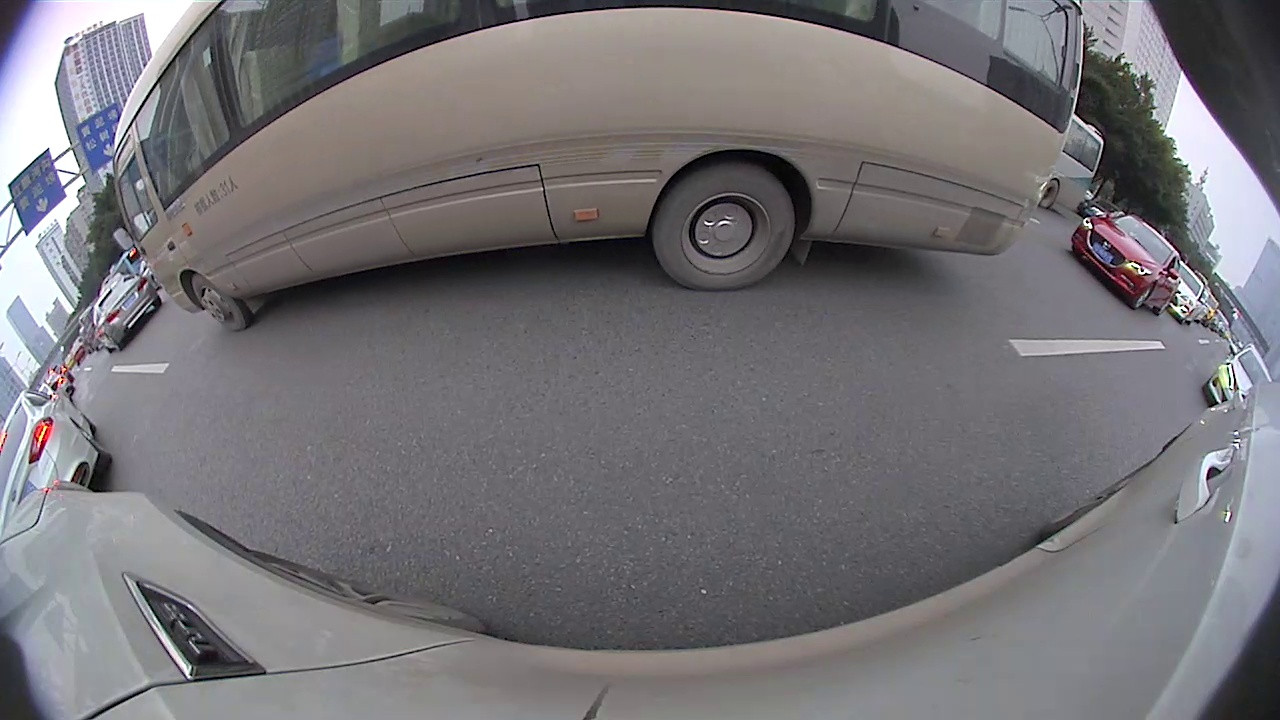bus: (111, 2, 1085, 333), (1032, 116, 1105, 217)
car: (1, 388, 110, 530), (1070, 213, 1181, 314), (90, 276, 160, 352), (1207, 343, 1271, 410)
front: (194, 273, 248, 328), (1128, 283, 1156, 309)
rear: (654, 167, 797, 293), (1038, 180, 1058, 206)
